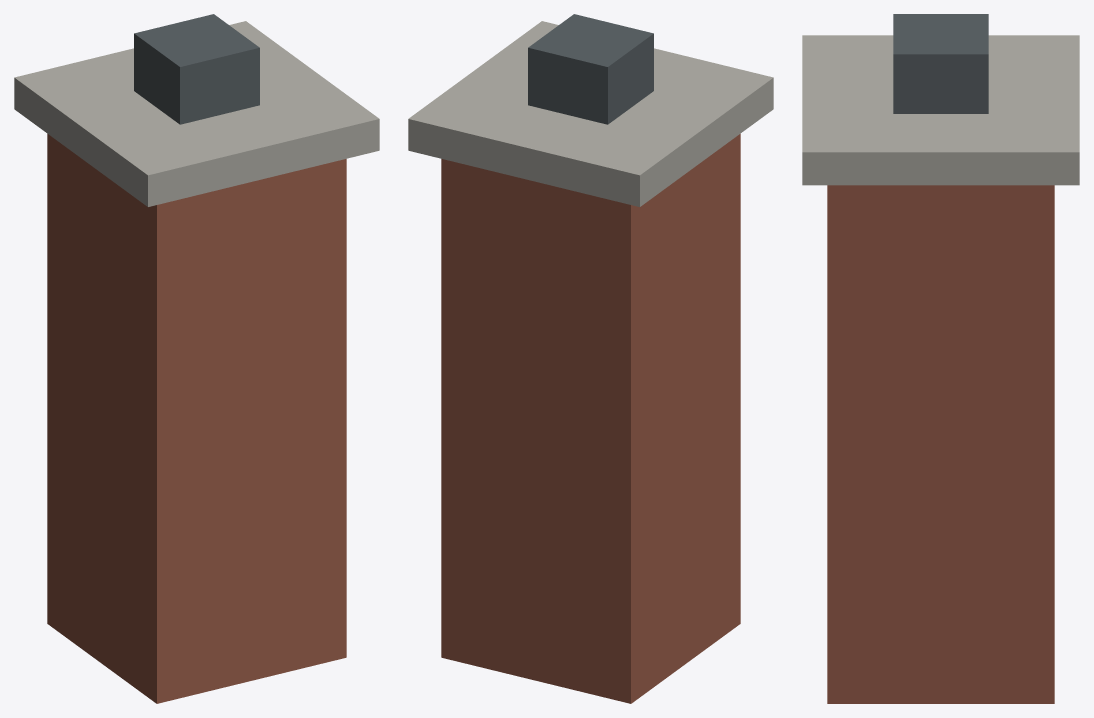
The picture shows the model from 3 angles, left to right: view 1: azimuth 30°, elevation 25°; view 2: azimuth 150°, elevation 25°; view 3: azimuth 270°, elevation 25°; orthographic projection. The views are drawn at different scales.
Parts seen in each view (by area): view 1: QH-A0067_V01_geometry; view 2: QH-A0067_V01_geometry; view 3: QH-A0067_V01_geometry.
Boxes of the visible parts, left/top/right/bottom form: QH-A0067_V01_geometry: left=14, top=14, right=379, bottom=703; QH-A0067_V01_geometry: left=408, top=14, right=773, bottom=703; QH-A0067_V01_geometry: left=802, top=14, right=1079, bottom=703.
Size of the model in its own units: 1.22 by 3.02 by 1.22.
